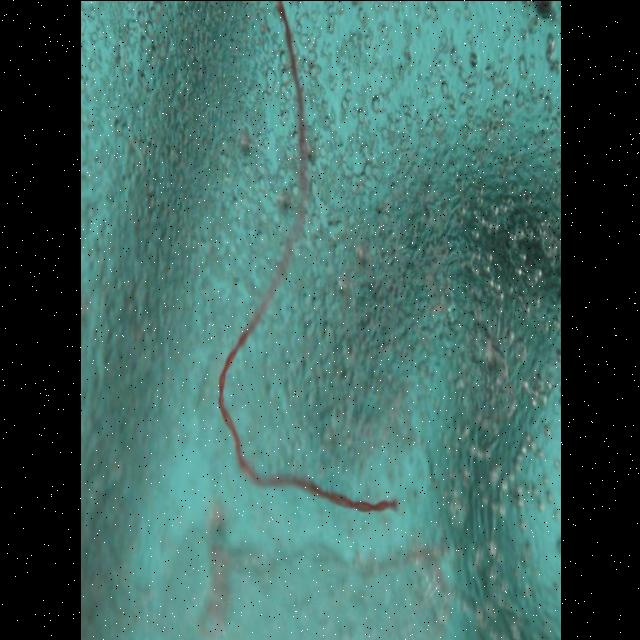Fibre: (215, 0, 398, 517)
